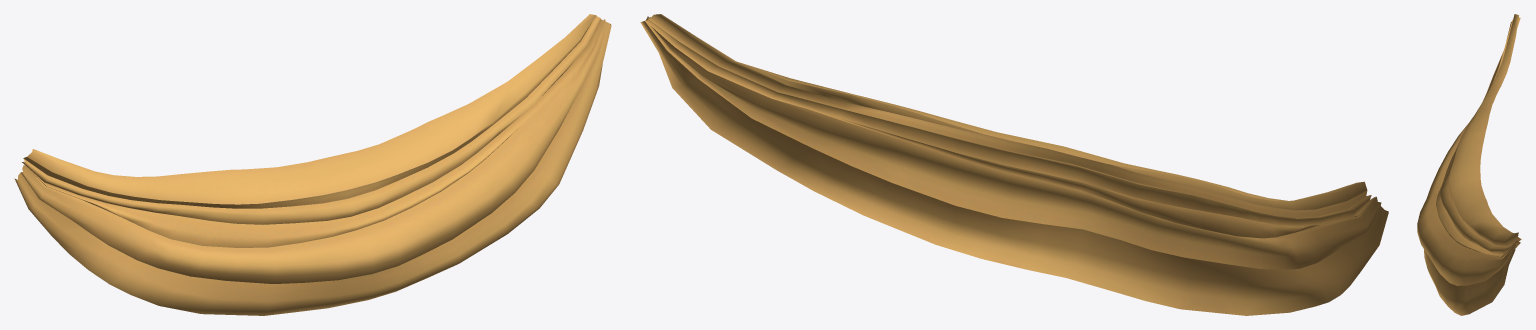
Rendered from CurtainHorizontal.fbx.
3 views of the same model, side by side, from view 1: azimuth 30°, elevation 25°; view 2: azimuth 150°, elevation 25°; view 3: azimuth 270°, elevation 25° (orthographic). The views are drawn at different scales.
Visible parts, largest first — view 1: CurtainHorizontal; view 2: CurtainHorizontal; view 3: CurtainHorizontal.
Part boxes in pixels (box(x1,y1,x2,y2)): CurtainHorizontal: box(14, 14, 611, 315); CurtainHorizontal: box(640, 14, 1388, 315); CurtainHorizontal: box(1417, 14, 1521, 315).
Size of the model in its own units: 1511 by 442 by 288.
